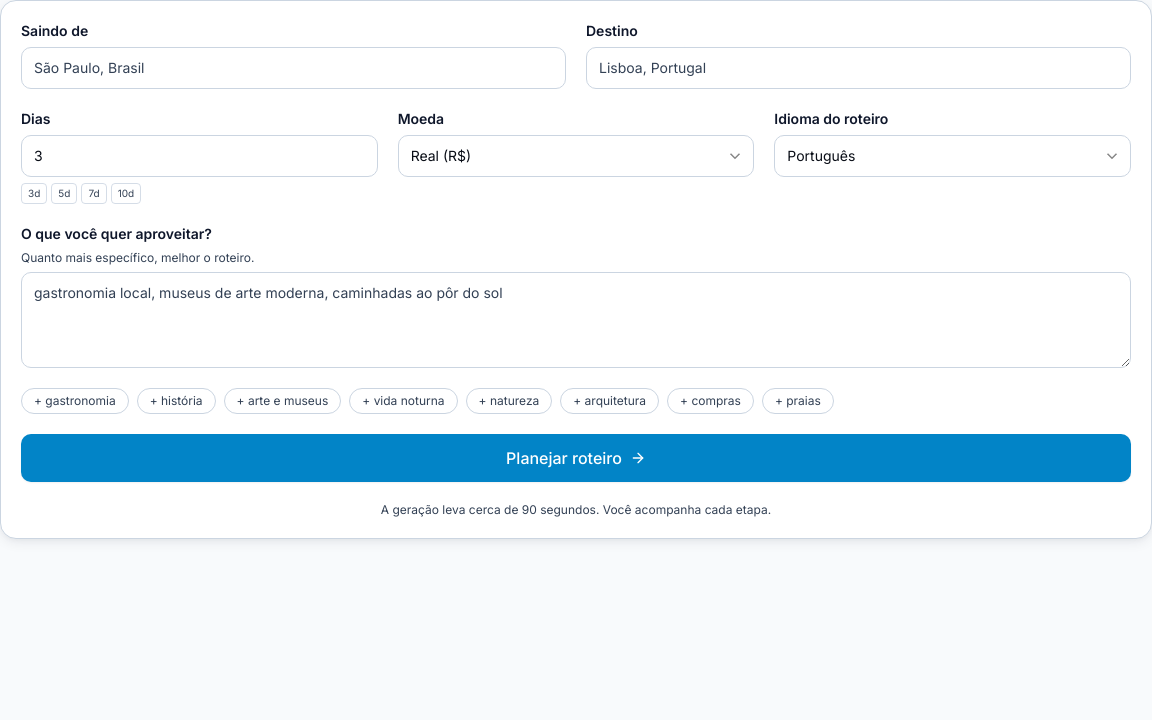
Scenario: BriefingForm › associa a mensagem de erro ao campo, para o leitor de tela
Click the button "Planejar roteiro" at [576, 458], box [21,434,1131,482]
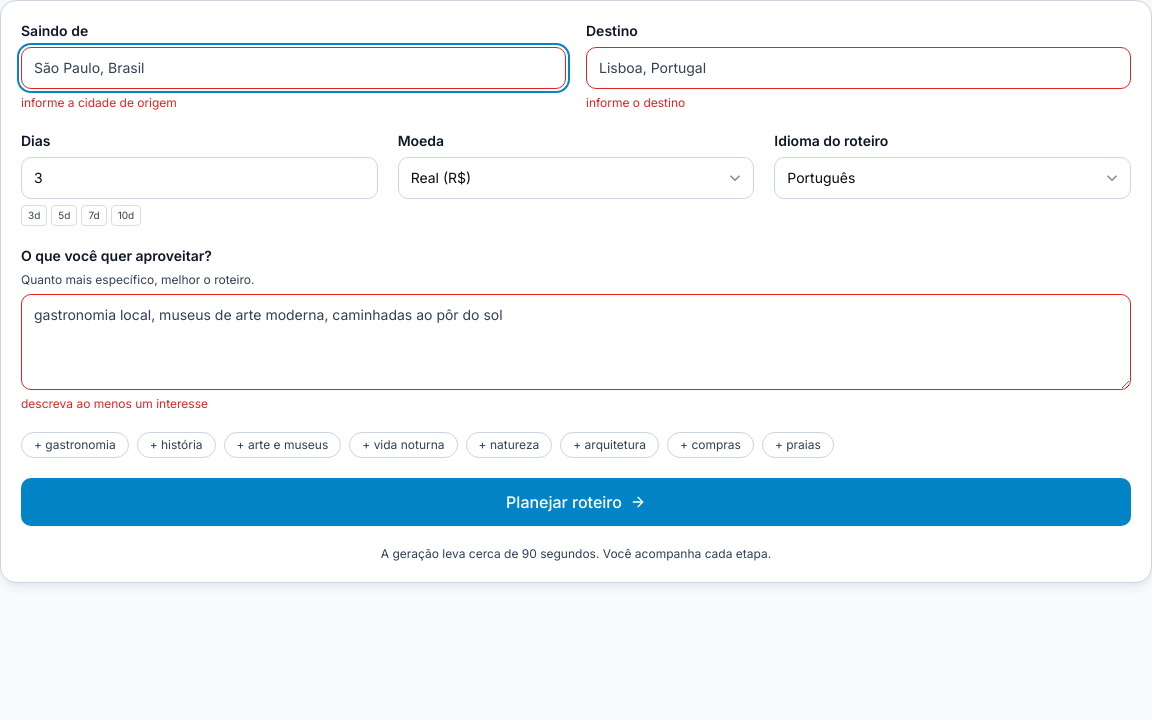
Expected: the message "informe o destino" is shown, [586,95,685,110]
